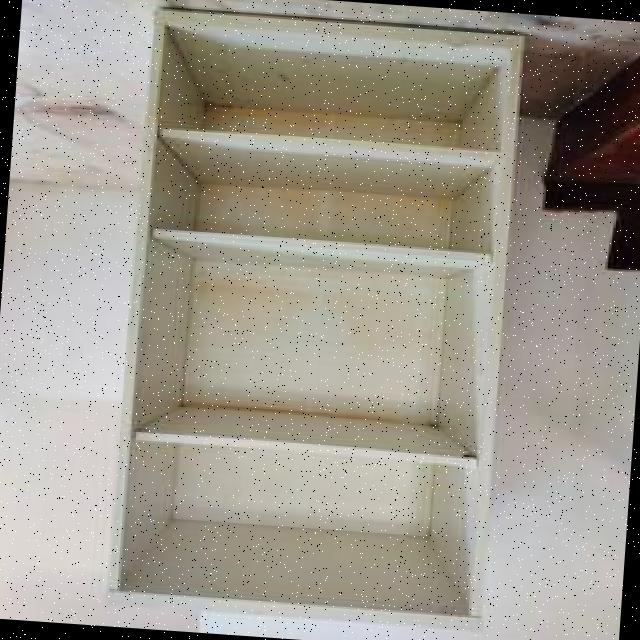Shelf: (94, 0, 535, 639)
